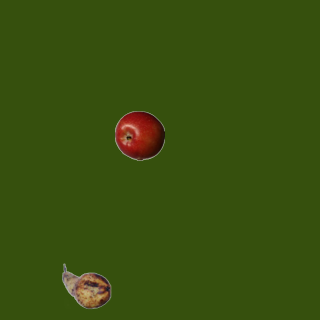Apple Braeburn: (114, 110, 164, 160)
Pear Abate: (61, 261, 111, 311)
